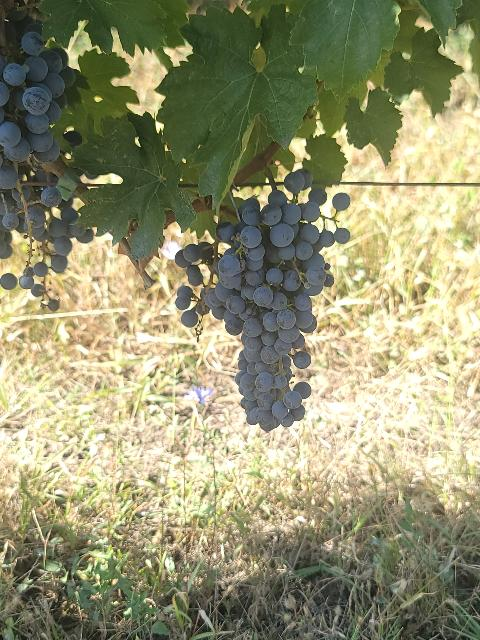grapes: (175, 170, 350, 431), (0, 31, 95, 311)
